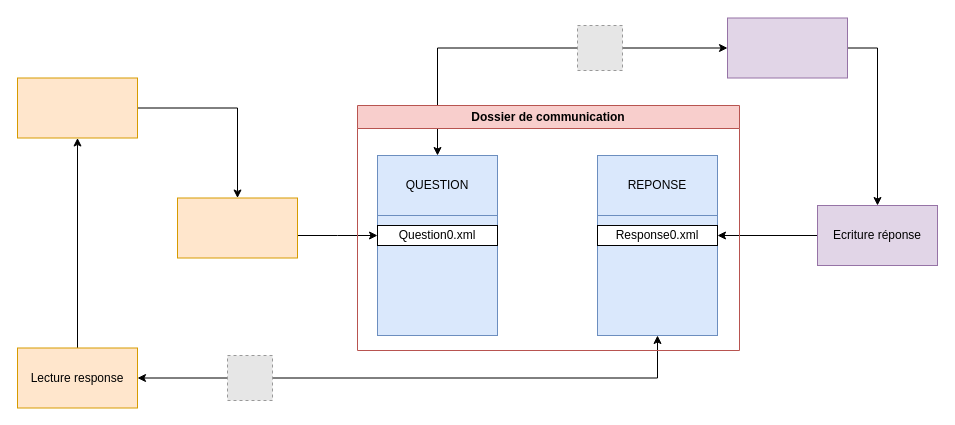
Some shapes in this 955 by 425 pixel diagram are drawn without their labels. Grey dashed boxes stand in for pictures. Each missing label, with the centre of its shape:
"CLIENT" goes at (x=77, y=107).
"Ecriture question" goes at (x=237, y=227).
"Lecture question" goes at (x=787, y=47).
